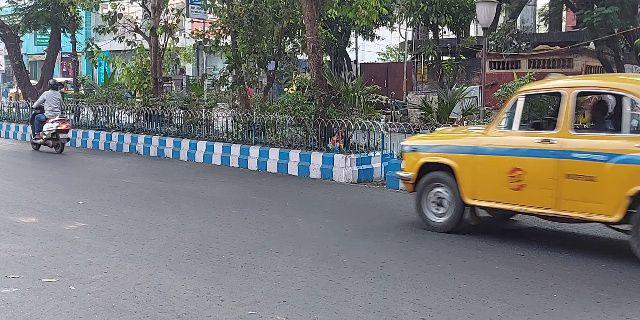Car: (397, 69, 640, 239)
Motorbike: (27, 78, 71, 155)
